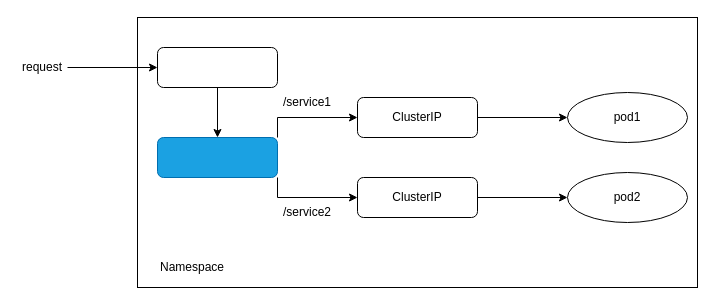
Image size: 715x305. Some labels were removed from this diagram. The centre of each missing label's shape, as x and y in pixels:
Nginx Ingress: the point at 217,157
NodePort: the point at 217,67
